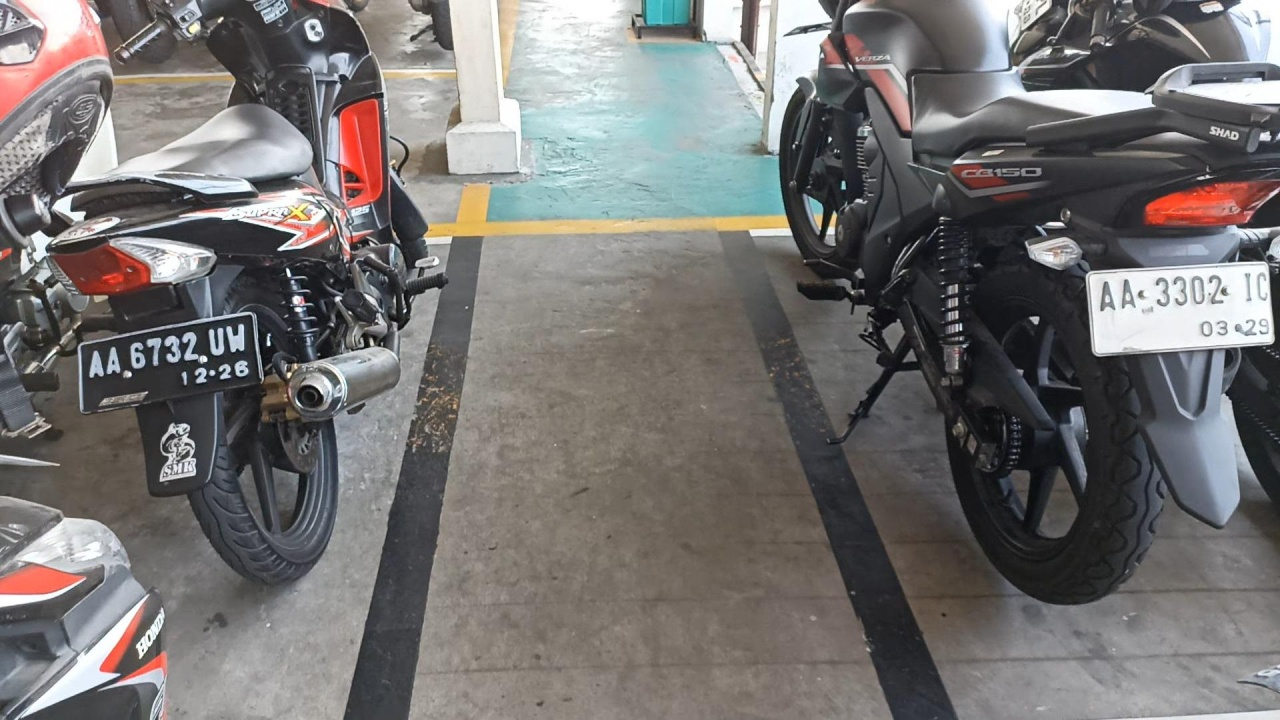plate: (77, 311, 264, 416), (1087, 262, 1276, 356)
